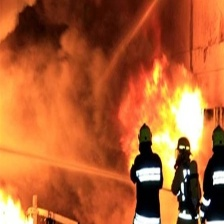fire: (144, 79, 206, 160)
smoke: (2, 1, 141, 208)
